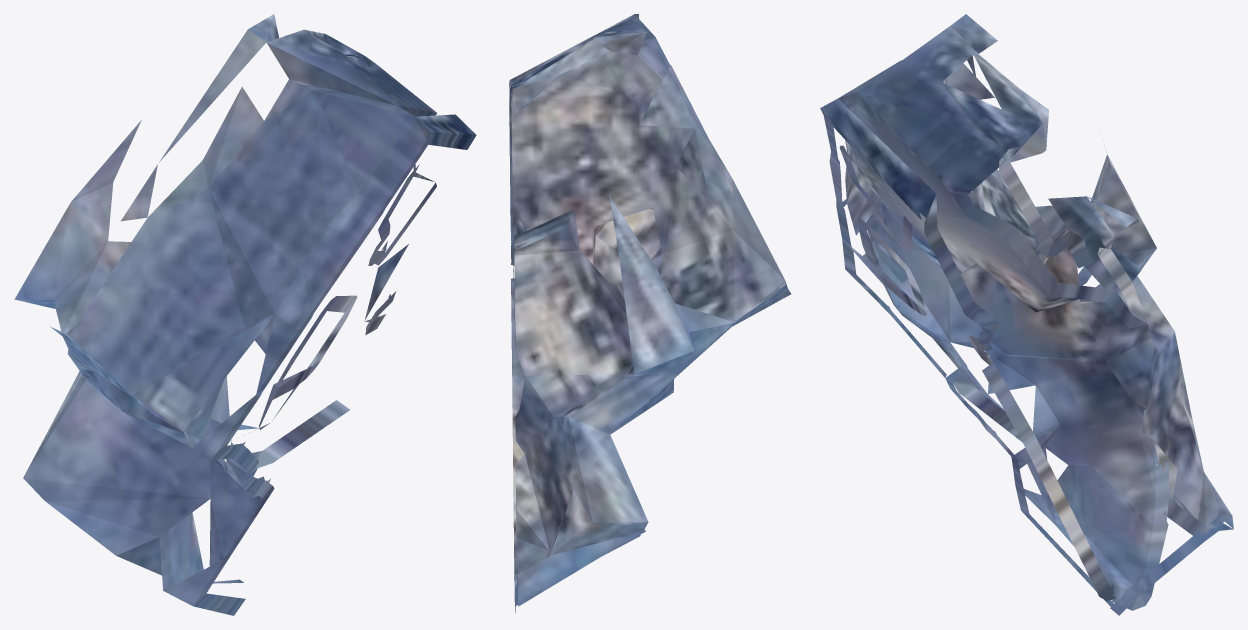
The picture shows the model from 3 angles, left to right: view 1: azimuth 30°, elevation 25°; view 2: azimuth 150°, elevation 25°; view 3: azimuth 270°, elevation 25°; orthographic projection. The views are drawn at different scales.
Size of the model in its own units: 23.71 by 39.31 by 25.85.
1 material, 1 textured.
